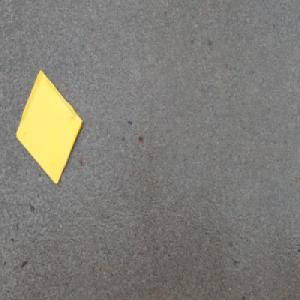PlasticPart: (15, 69, 83, 186)
